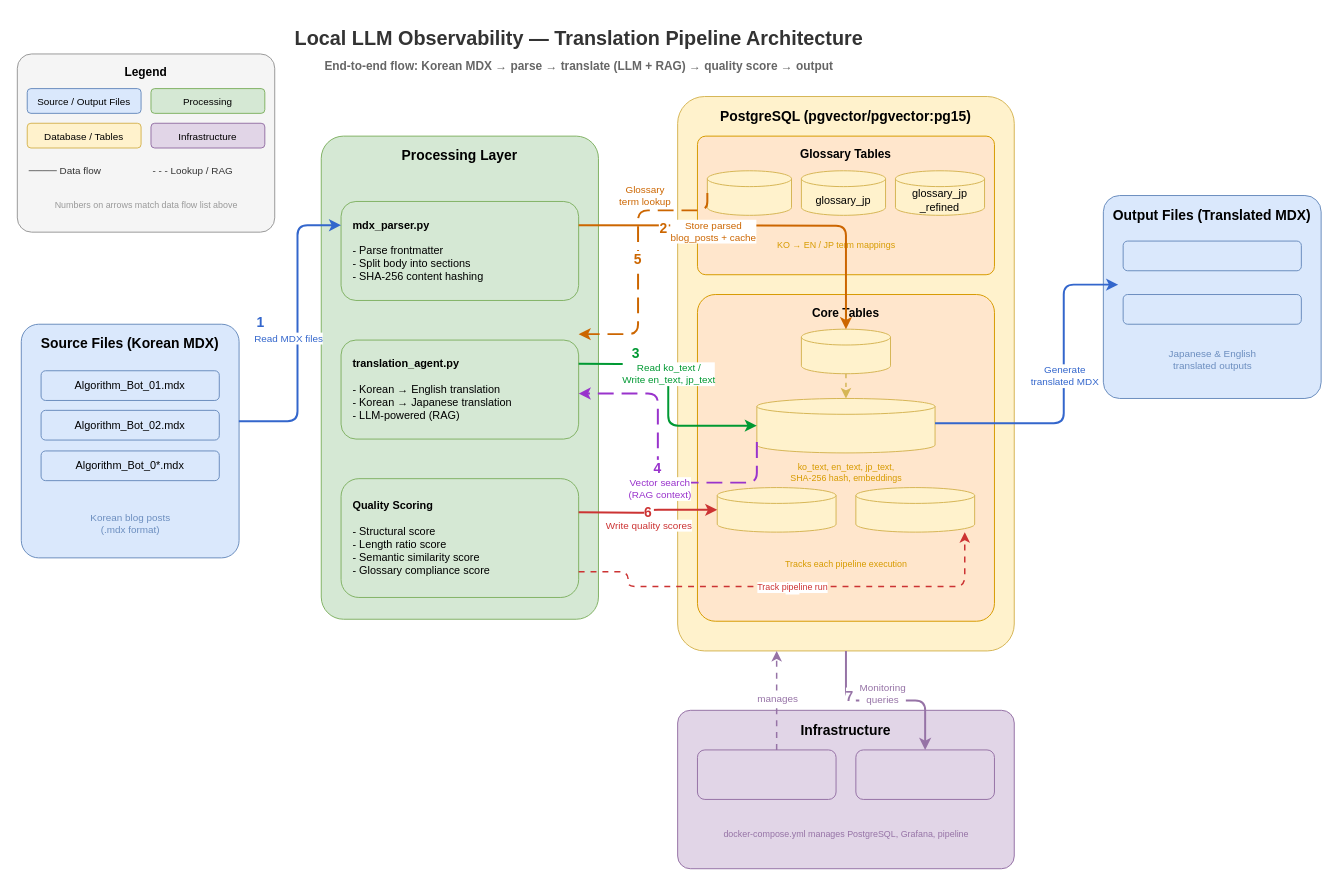
The diagram is 1338 pixels wide and 886 high, and some of its shapes have lost their labels. Each missing label, with the centre of its shape:
Algorithm_Bot_0*_en.mdx: point 1211,309
Algorithm_Bot_0*_jp.mdx: point 1211,255
blog_posts: point 845,351
Docker Compose Orchestration: point 766,774
glossary_en: point 749,192
Grafana Dashboard: point 924,774
pipeline_runs: point 915,509
translation_cache vector(768) embedding: point 845,425
translation_quality: point 776,509
